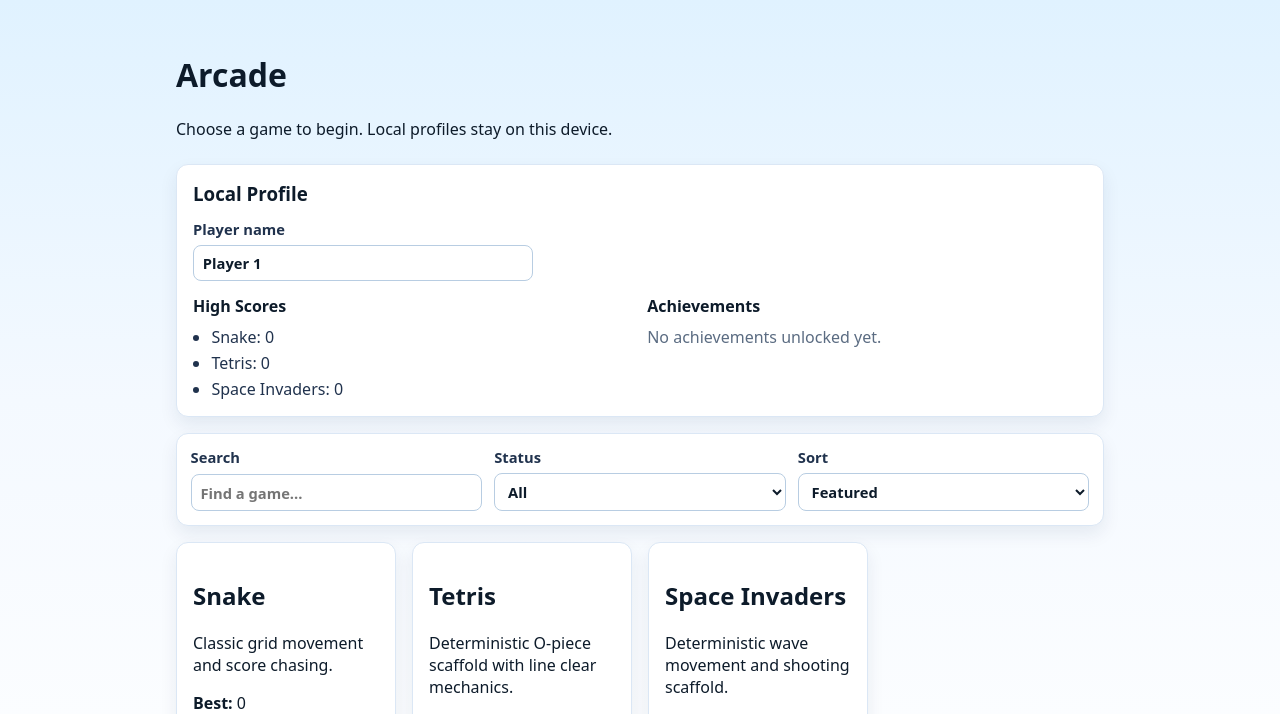
Test: App › shows empty state when status filter excludes all games
The width and height of the screenshot is (1280, 714).
Select "Planned" in the dropdown labelled "Status" at (640, 492), box [494,473,786,511]
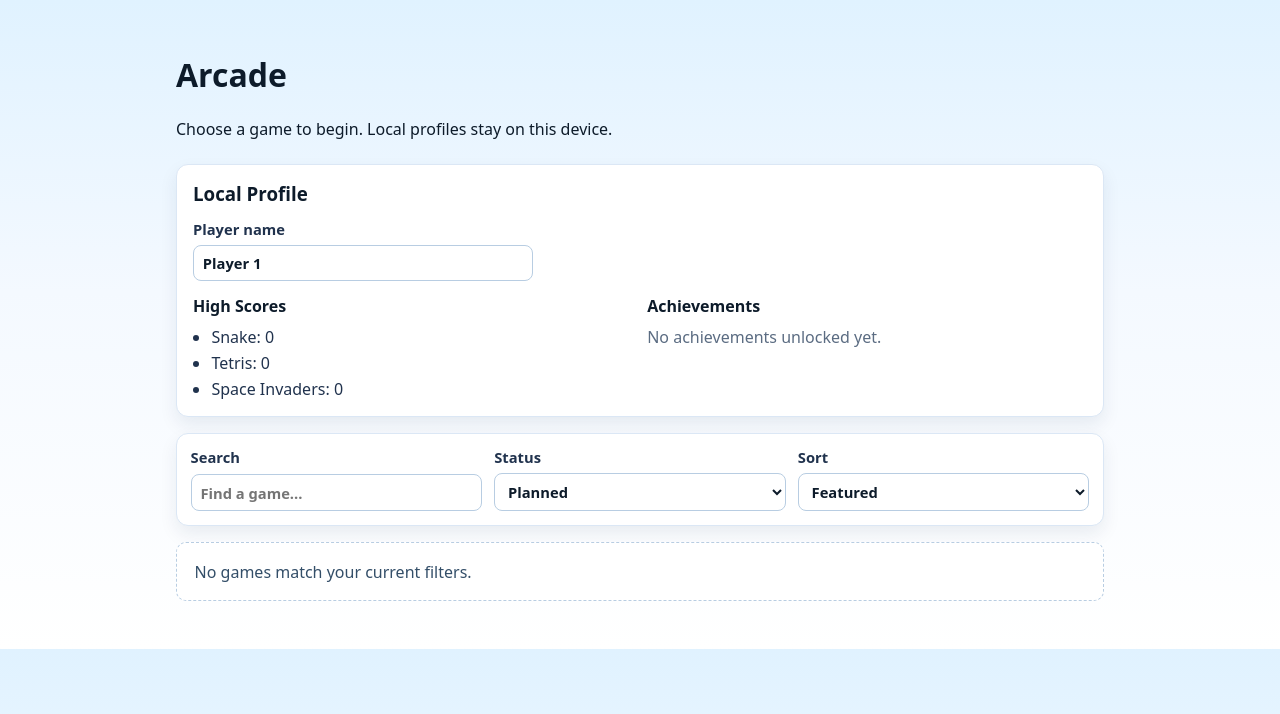
Result: the text "No games match your current filters." is shown at [176,542,1104,601]
